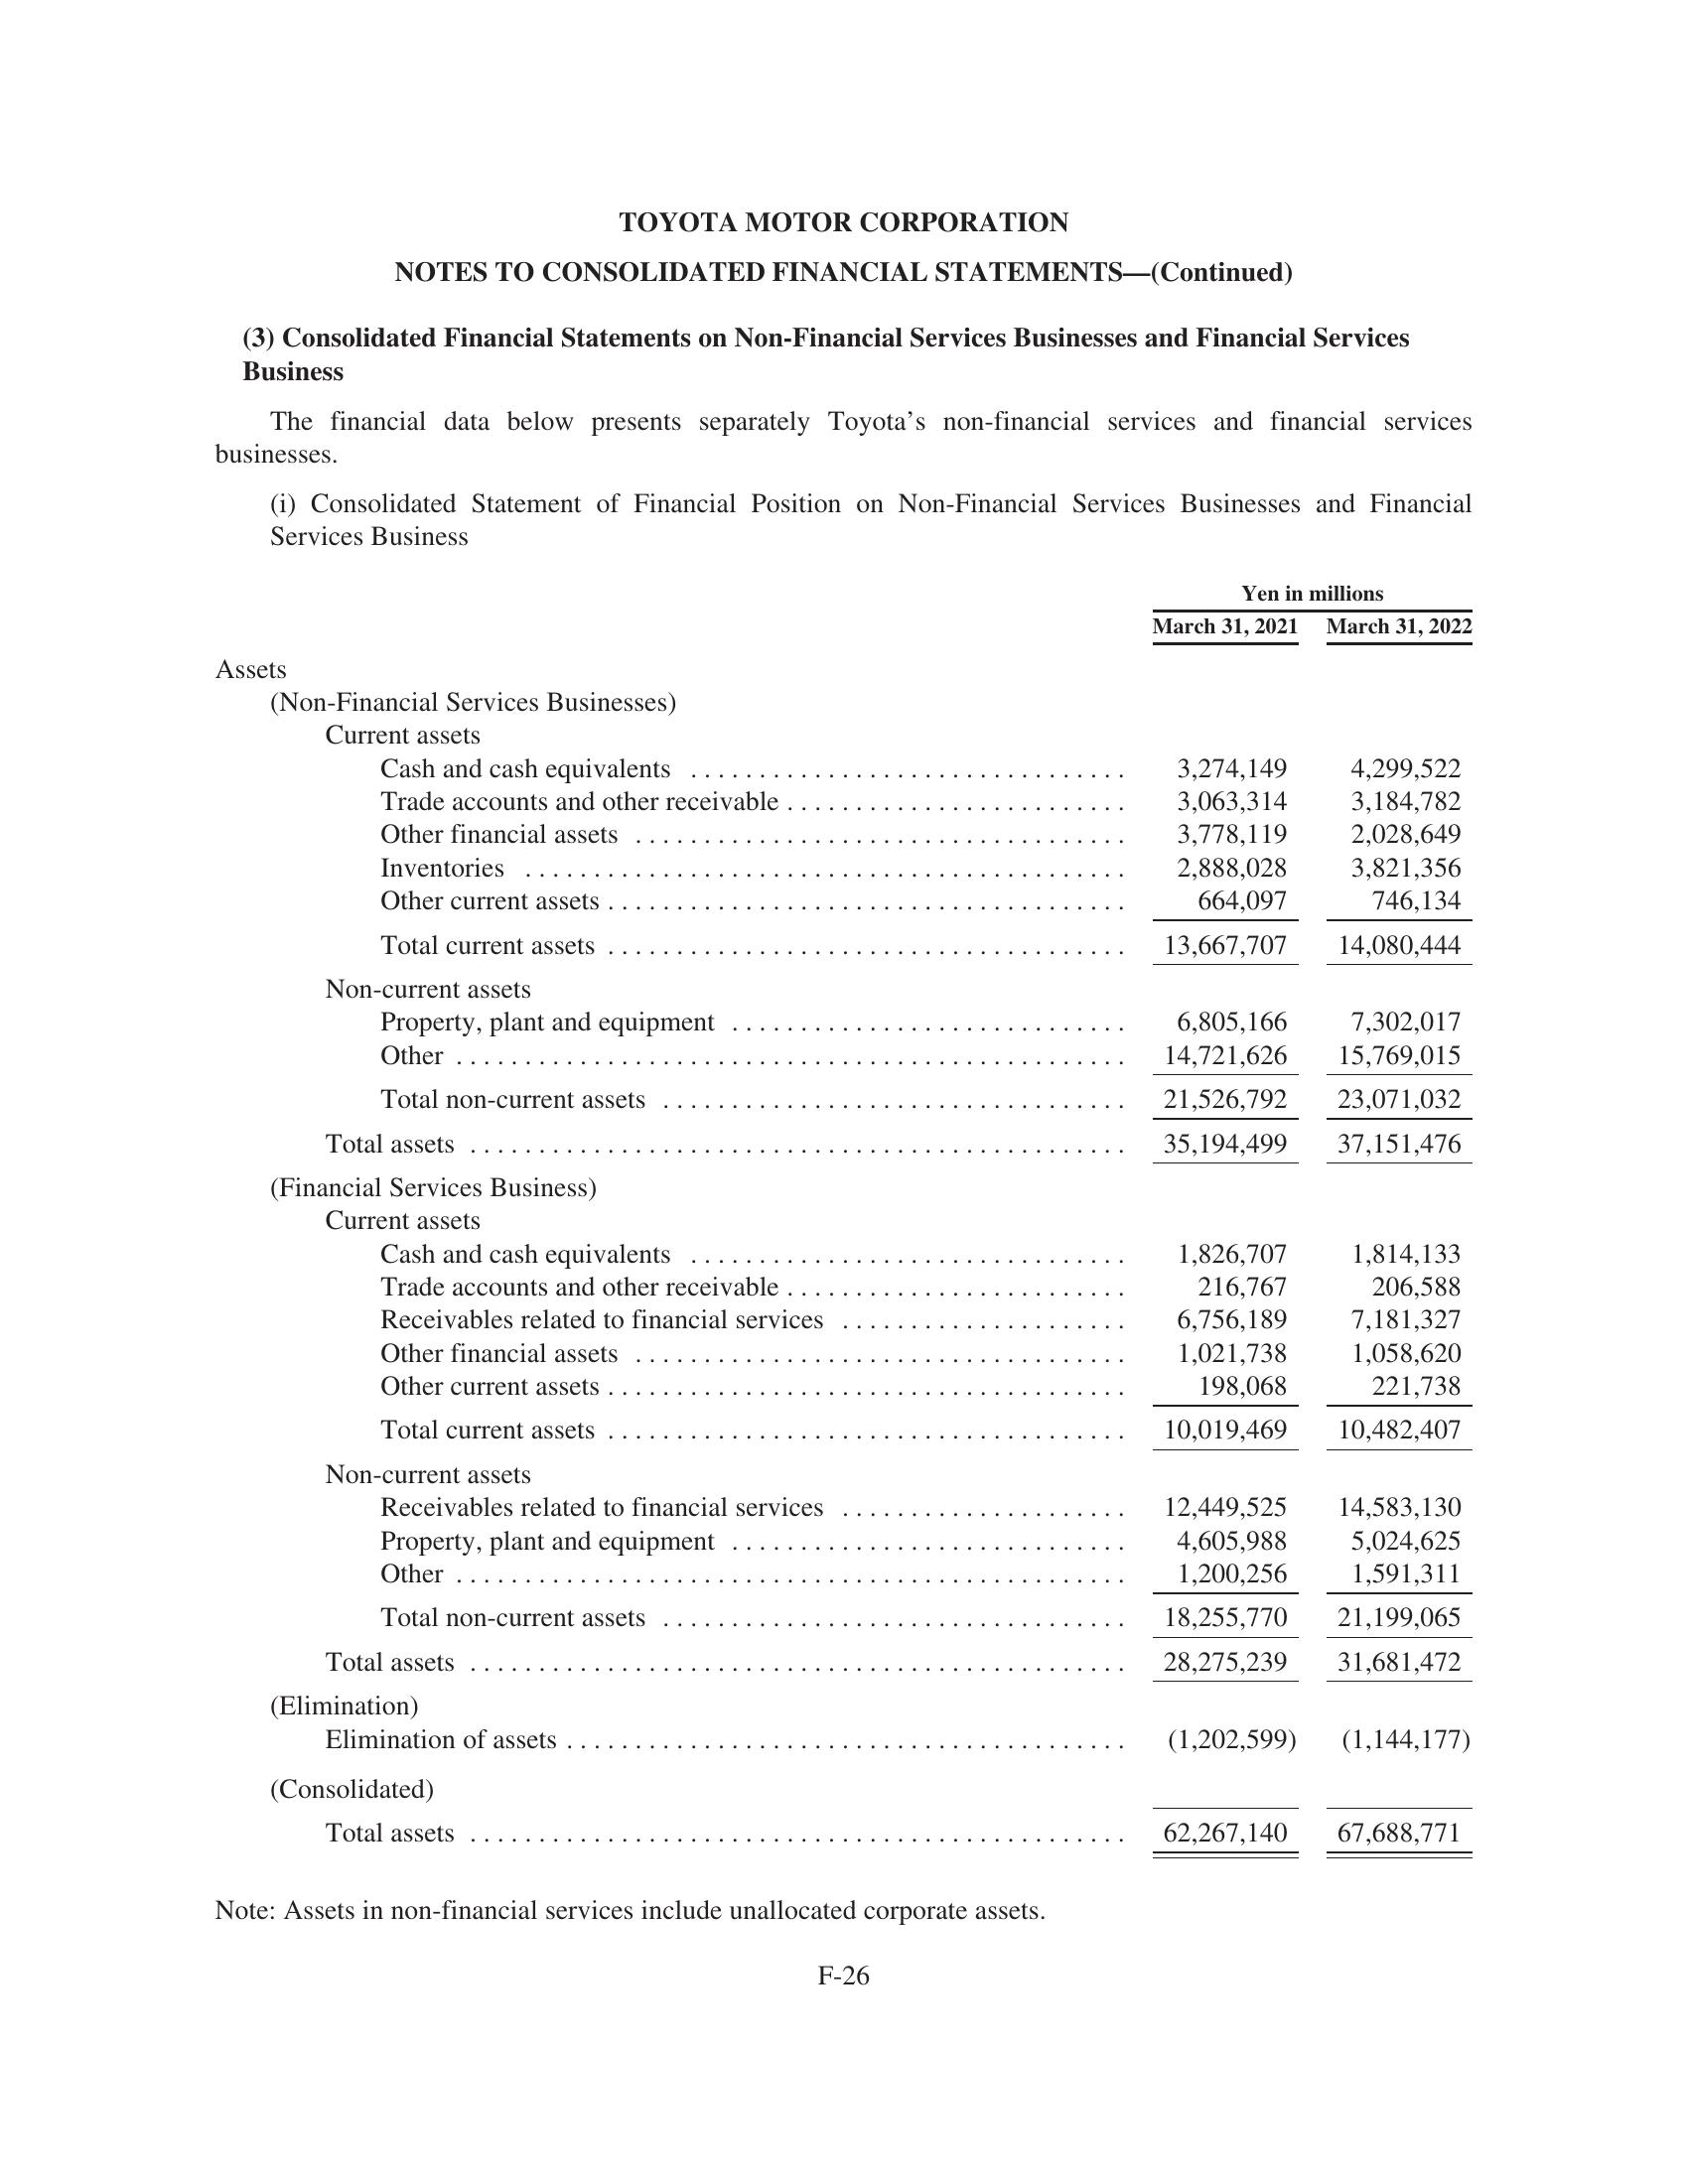Footer: (0, 1954, 1688, 2184)
Header: (0, 0, 1688, 171)
Table: (90, 575, 1564, 1856)
